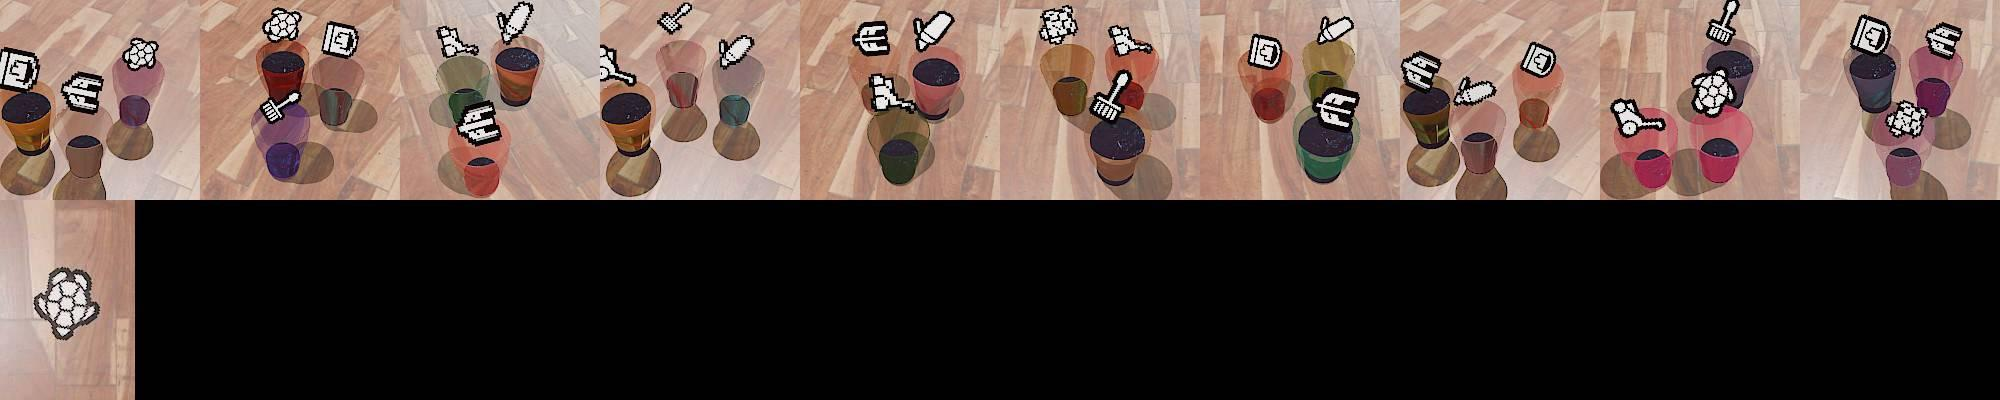icon: (32, 266, 102, 339), (1089, 69, 1134, 124), (1608, 97, 1667, 138), (455, 98, 503, 148), (867, 71, 920, 115), (1689, 69, 1736, 116), (1315, 87, 1360, 132), (60, 69, 103, 116), (912, 10, 955, 54), (0, 47, 41, 93), (598, 43, 639, 88), (495, 0, 534, 45), (1884, 98, 1929, 138), (1851, 14, 1892, 56), (1705, 0, 1741, 47), (1402, 50, 1443, 90), (1038, 4, 1078, 46), (436, 24, 481, 61), (320, 19, 360, 60), (1107, 23, 1153, 57), (1519, 41, 1557, 79), (263, 8, 302, 45), (1925, 20, 1962, 59), (260, 89, 302, 122), (1453, 75, 1496, 107), (1246, 33, 1283, 70), (717, 34, 755, 70), (853, 19, 892, 55), (122, 36, 159, 71), (657, 1, 694, 36), (1318, 14, 1351, 43)
